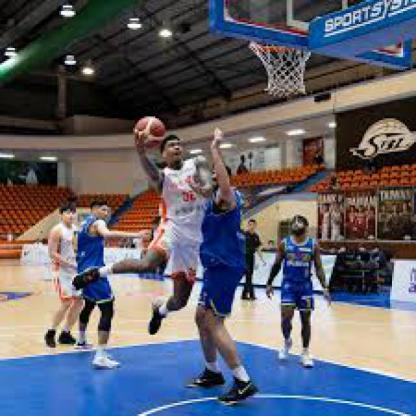basketball: (135, 116, 167, 148)
rim: (245, 38, 308, 58)
